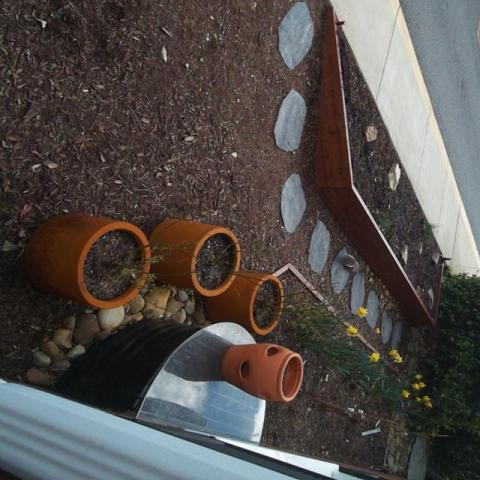small_animal: (340, 251, 362, 276)
